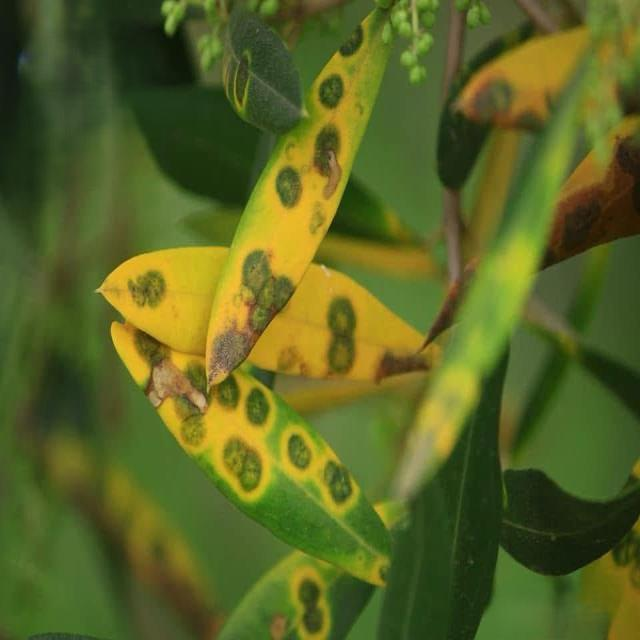Peacock Eye: (110, 321, 383, 586), (206, 6, 393, 378), (248, 265, 440, 382), (97, 246, 227, 354), (219, 555, 375, 639), (223, 8, 301, 133)
